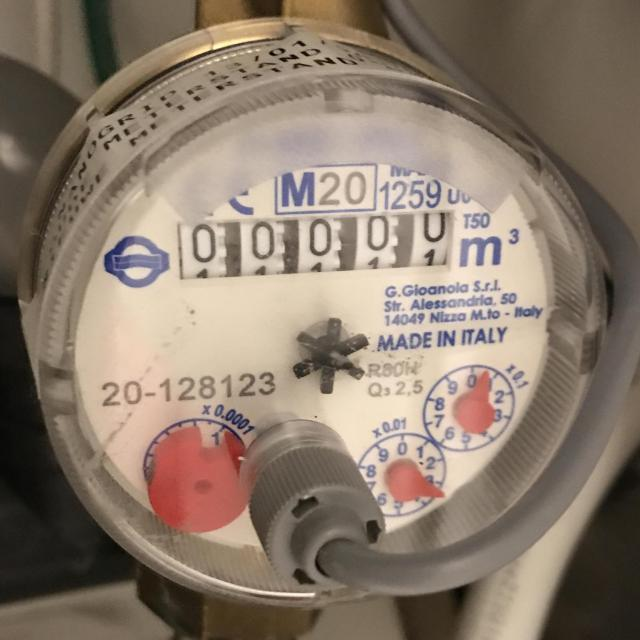gaz_meter: (68, 87, 552, 551)
indication: (176, 209, 452, 280)
